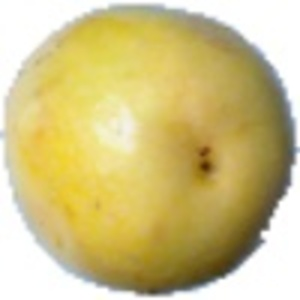maracujá: (1, 4, 300, 297)
